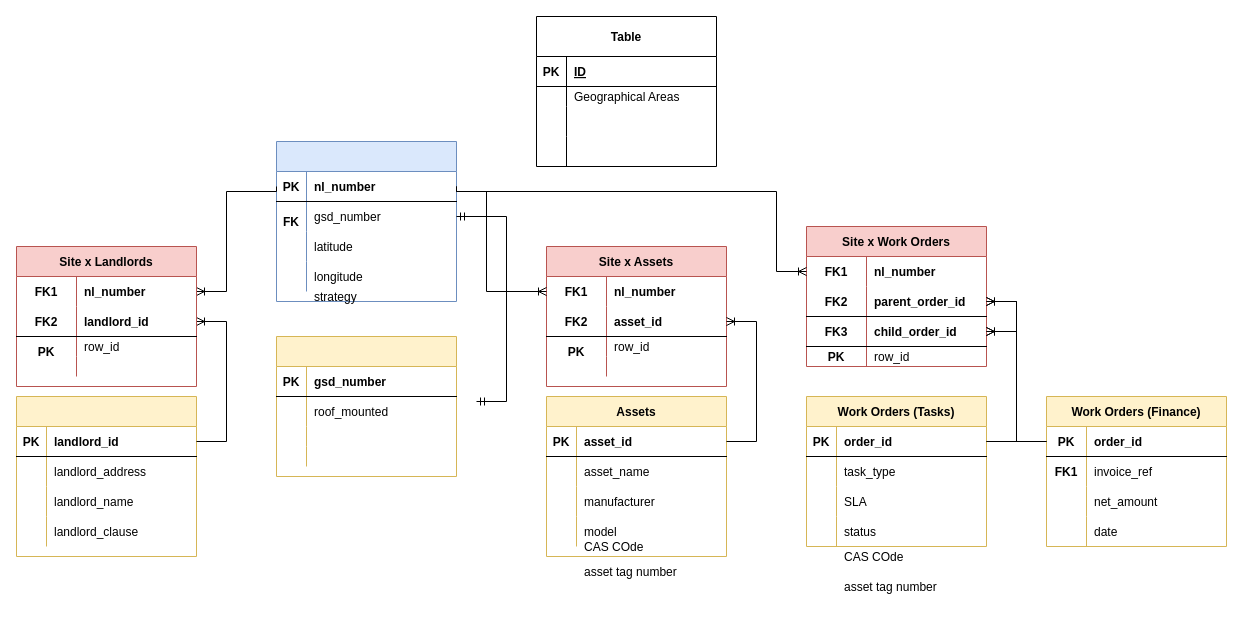
The diagram is 1243 pixels wide and 618 high, and some of its shapes have lost their labels. Each missing label, with the box of its shape:
Health & Safety: (276, 336, 456, 476)
Landlords: (16, 396, 196, 556)
Sites: (276, 140, 456, 302)
